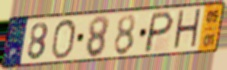8: (85, 14, 111, 60), (112, 13, 139, 56), (27, 21, 50, 61)
H: (171, 7, 203, 53)
O: (50, 18, 78, 61)
P: (142, 10, 176, 54)
